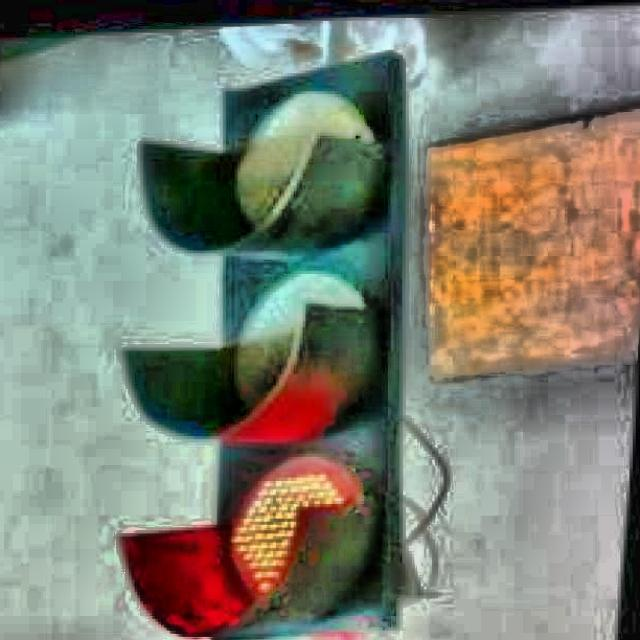red: (168, 52, 402, 640)
